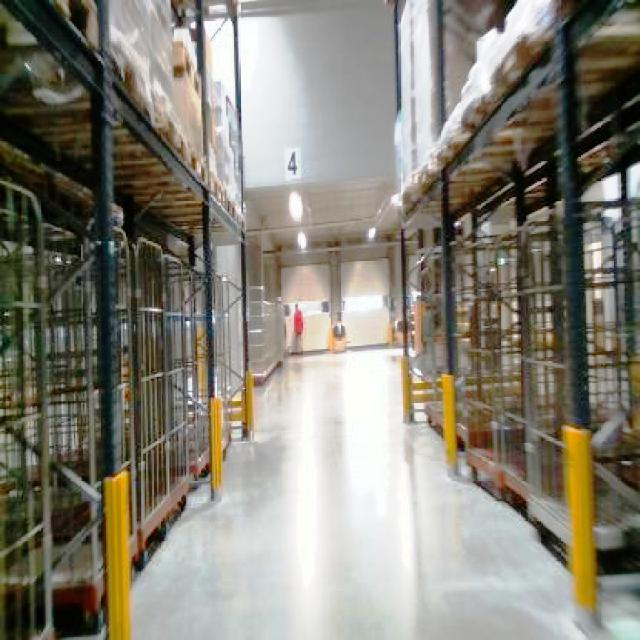ground: (106, 342, 638, 638)
pallet: (392, 0, 638, 638), (0, 360, 254, 638)
